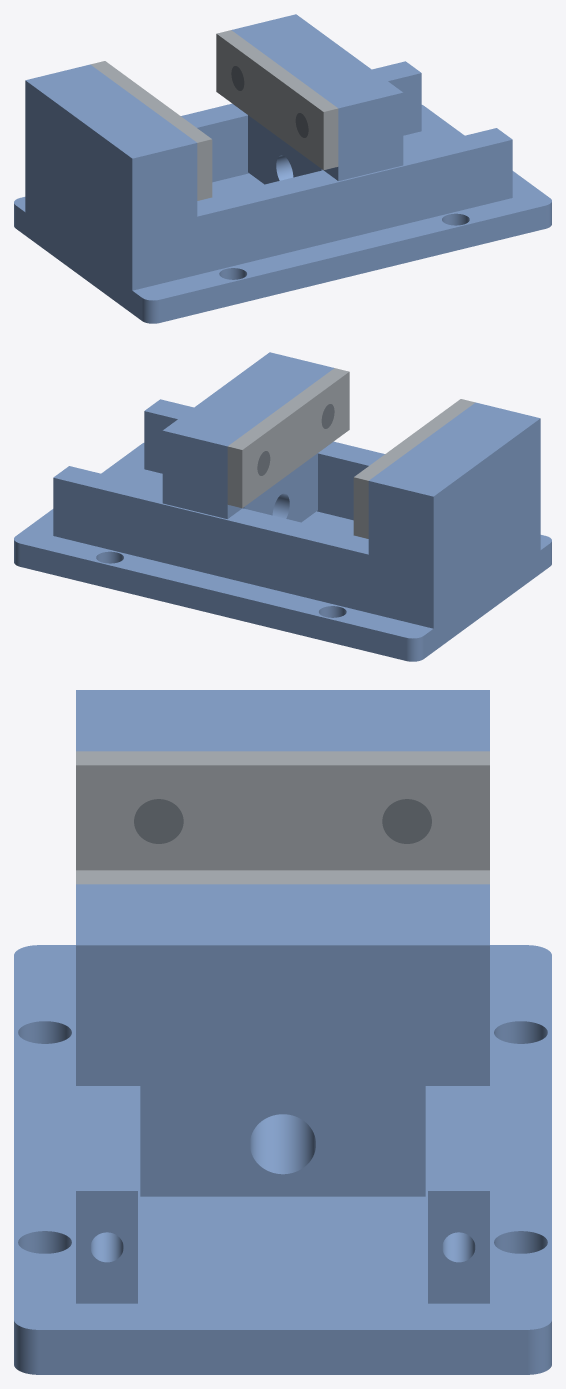
The model's file is step_22.glb.
3 views of the same model, one above another, from view 1: azimuth 30°, elevation 25°; view 2: azimuth 150°, elevation 25°; view 3: azimuth 270°, elevation 25° (orthographic). The views are drawn at different scales.
Parts seen in each view (by area): view 1: part__body, part__moving jaw, part__moving jaw plate, part__fixed jaw plate; view 2: part__body, part__moving jaw, part__moving jaw plate, part__fixed jaw plate; view 3: part__body, part__moving jaw, part__fixed jaw plate, part__moving jaw plate, part__jaw plate screw 1, part__jaw plate screw 2.
Part boxes in pixels (<box>): part__body: <box>14,61,551,323</box>; part__moving jaw: <box>231,14,403,184</box>; part__moving jaw plate: <box>216,30,338,170</box>; part__fixed jaw plate: <box>90,61,212,200</box>; part__body: <box>14,399,551,661</box>; part__moving jaw: <box>162,352,334,522</box>; part__moving jaw plate: <box>227,368,349,508</box>; part__fixed jaw plate: <box>353,399,475,538</box>; part__body: <box>14,690,551,1374</box>; part__moving jaw: <box>76,884,489,1196</box>; part__fixed jaw plate: <box>76,751,489,870</box>; part__moving jaw plate: <box>76,870,489,884</box>; part__jaw plate screw 1: <box>382,799,431,843</box>; part__jaw plate screw 2: <box>134,799,183,843</box>.
Size of the model in its own units: 220 by 80 by 130.
